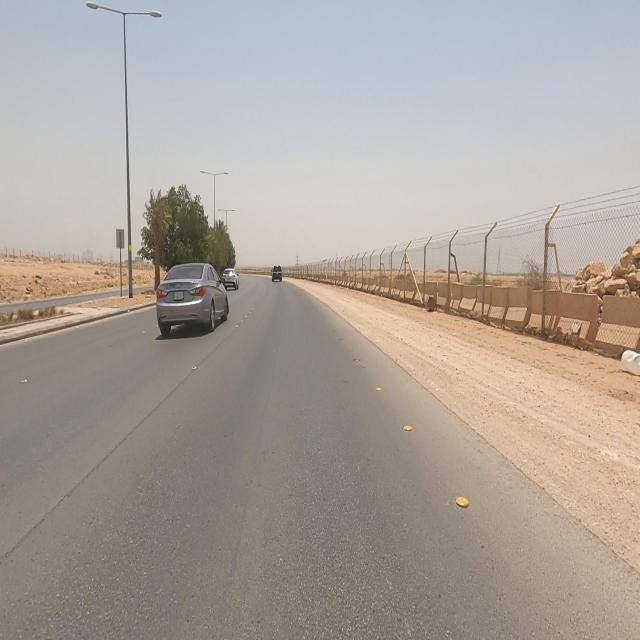debris: (595, 302, 640, 410)
